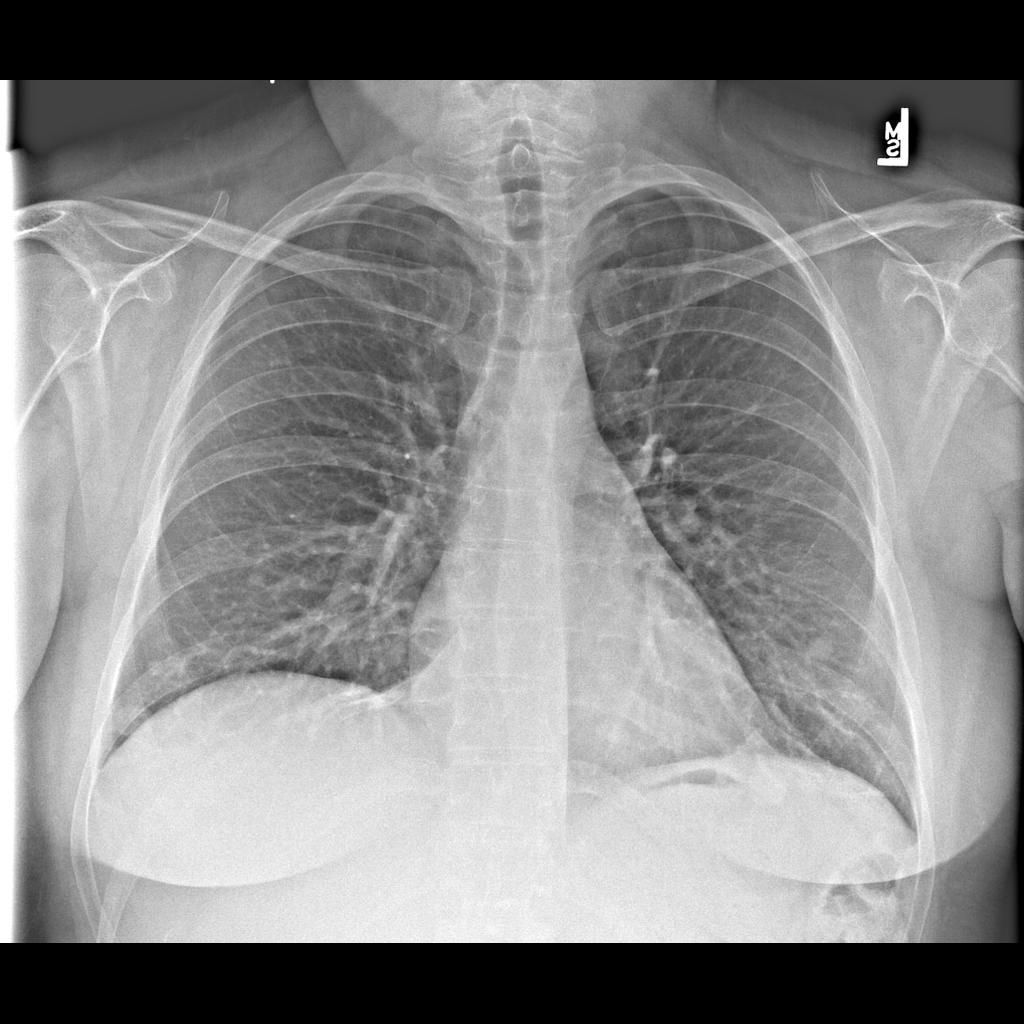Nodule: (808, 638, 837, 669)
